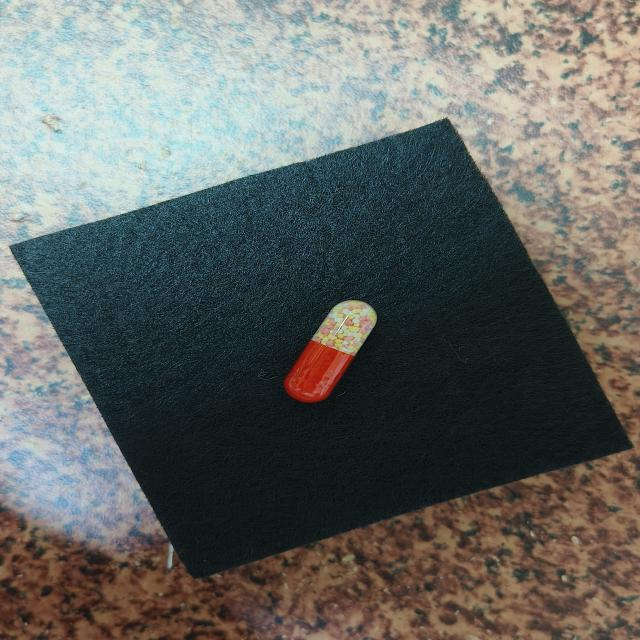Intact Capsule: (284, 300, 377, 403)
